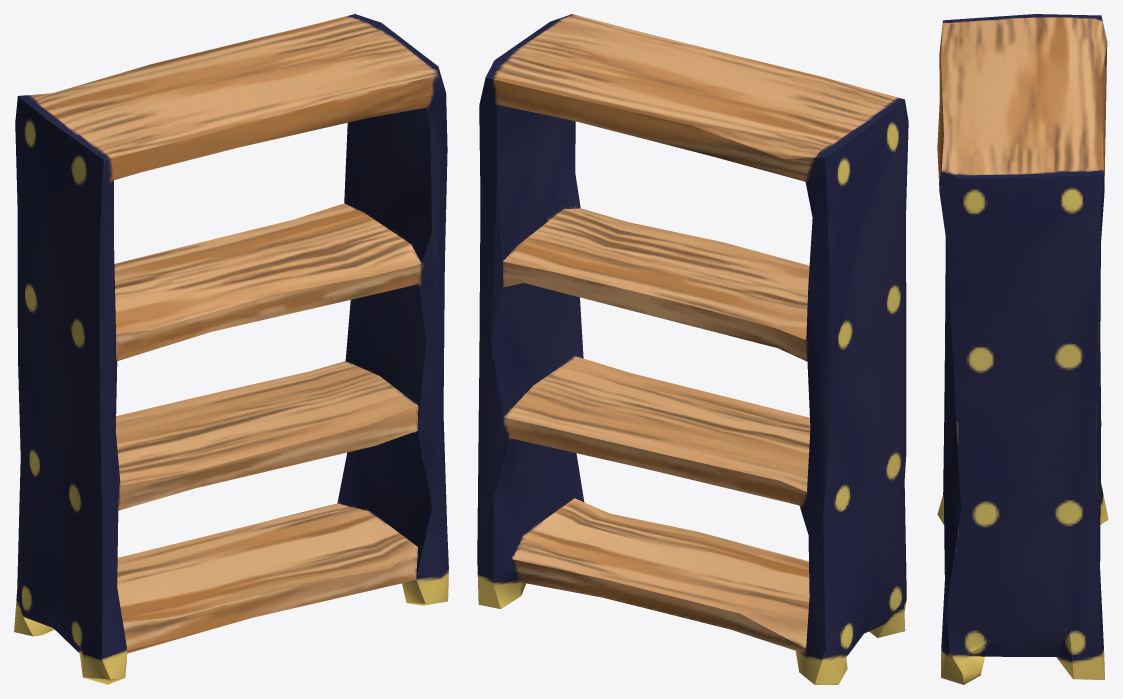
The model's file is harbor-rope-bookshelf.glb.
3 renders of one model, left to right at view 1: azimuth 30°, elevation 25°; view 2: azimuth 150°, elevation 25°; view 3: azimuth 270°, elevation 25°, orthographic. The views are drawn at different scales.
Parts seen in each view (by area): view 1: geometry_0; view 2: geometry_0; view 3: geometry_0.
Part boxes in pixels (left/top/right/bottom): geometry_0: left=14, top=14, right=448, bottom=684; geometry_0: left=477, top=14, right=908, bottom=684; geometry_0: left=937, top=14, right=1108, bottom=684.
Size of the model in its own units: 0.7123 by 1 by 0.3031.
Materials: 1 (1 with a texture image).
